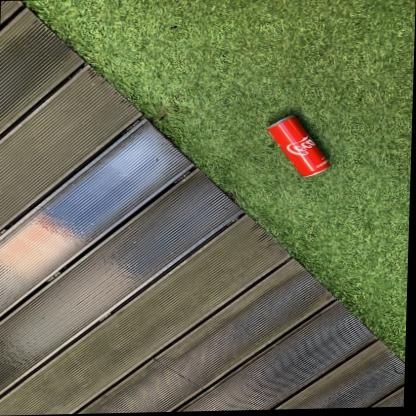trash: (267, 116, 329, 175)
